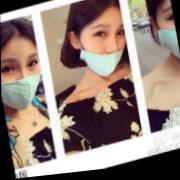OK: (2, 40, 49, 114), (153, 4, 180, 67)
WRONG: (74, 12, 140, 86)
